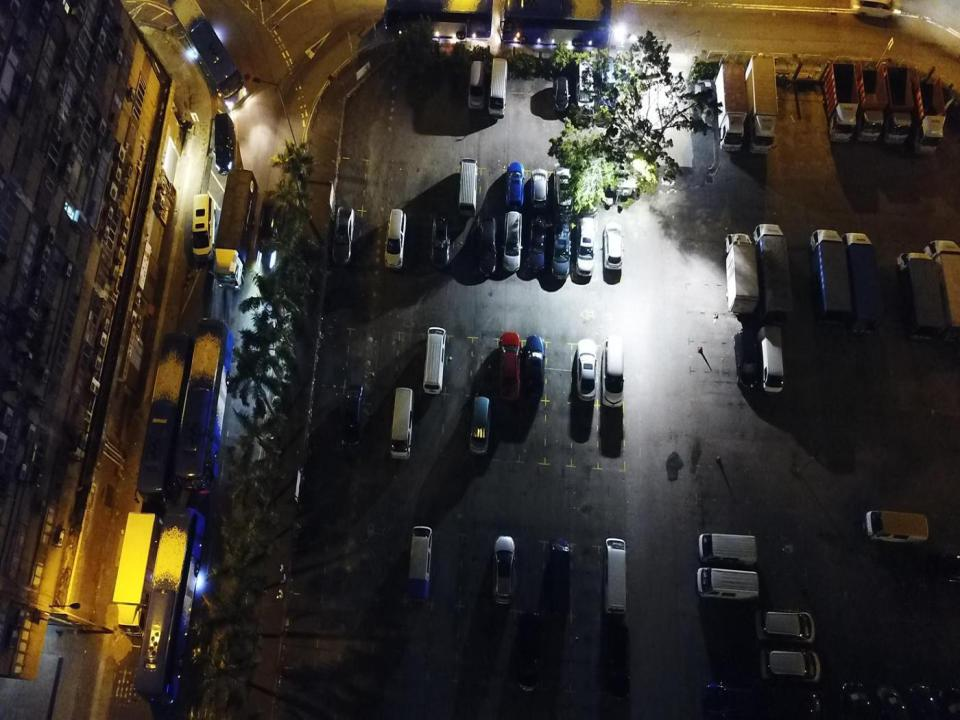bus: (134, 506, 206, 706), (136, 332, 198, 510), (175, 319, 234, 495), (166, 0, 247, 111), (500, 0, 612, 48), (383, 0, 492, 38)
car: (759, 647, 821, 682), (754, 609, 815, 644), (516, 611, 541, 692), (256, 196, 283, 268), (703, 682, 760, 716), (767, 685, 824, 719), (498, 332, 522, 402), (550, 539, 571, 615), (734, 329, 759, 390), (610, 623, 629, 700), (342, 384, 365, 446), (494, 534, 514, 604), (332, 206, 354, 266), (470, 396, 491, 456), (525, 334, 545, 397), (576, 339, 596, 401), (876, 683, 910, 719), (908, 683, 942, 719), (841, 683, 874, 719), (576, 216, 595, 278), (431, 211, 451, 269), (479, 216, 497, 276), (603, 220, 624, 271), (929, 552, 960, 586), (528, 214, 546, 272), (506, 162, 525, 211), (850, 0, 894, 20), (530, 168, 549, 208), (553, 77, 570, 113)
truck: (112, 510, 166, 640), (213, 169, 259, 292), (838, 233, 885, 334), (897, 252, 944, 343), (810, 229, 852, 327), (923, 240, 960, 348), (754, 223, 792, 323), (742, 55, 778, 155), (714, 61, 748, 152), (725, 232, 759, 317), (824, 60, 859, 142), (913, 76, 946, 156), (856, 62, 888, 144), (884, 66, 915, 147)
van: (865, 509, 928, 545), (697, 568, 759, 602), (699, 532, 756, 568), (756, 326, 784, 395), (408, 526, 432, 603), (390, 388, 415, 460), (604, 538, 627, 616), (191, 193, 217, 261), (423, 326, 447, 394), (601, 340, 624, 407), (384, 207, 406, 270), (501, 211, 523, 273), (214, 114, 235, 175), (457, 157, 478, 217), (552, 212, 570, 280), (488, 57, 508, 118), (596, 57, 618, 110), (576, 58, 595, 119), (553, 160, 572, 217), (467, 60, 486, 111)
